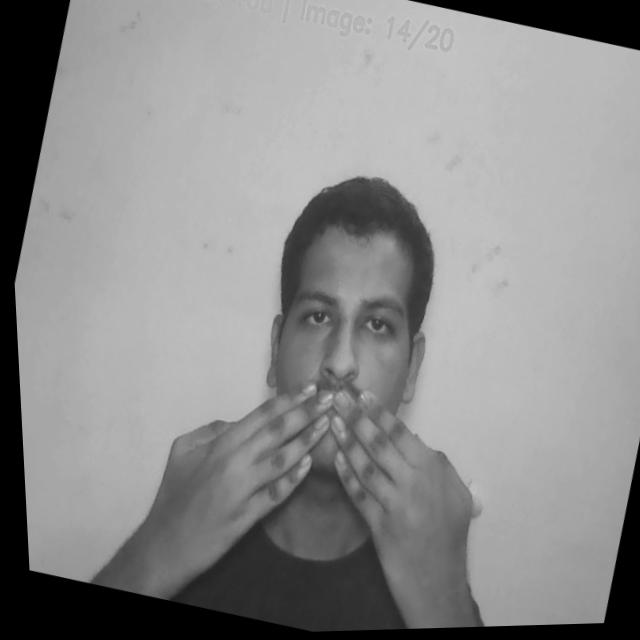Thank You: (130, 343, 498, 637)
